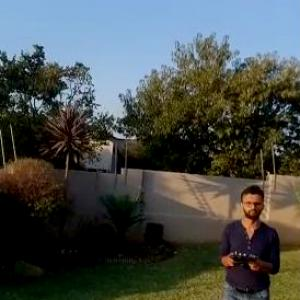follow: (212, 179, 285, 299)
